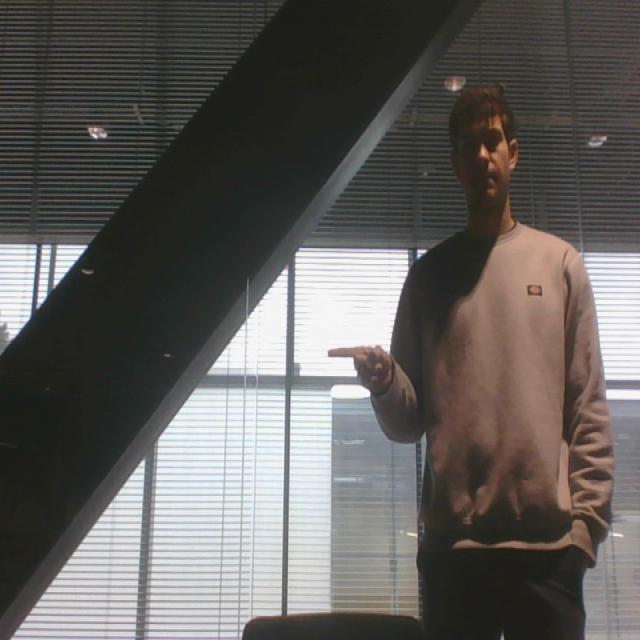left: (318, 332, 394, 398)
